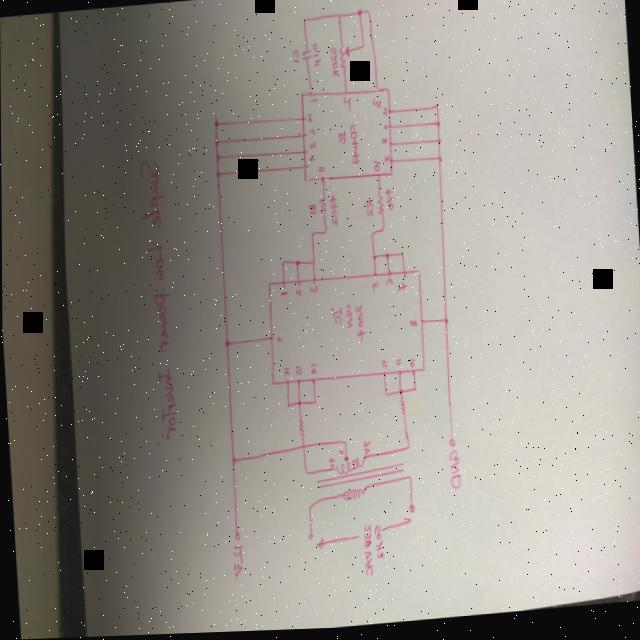capacitor: (300, 49, 312, 64)
crossover: (301, 444, 305, 450)
junction: (213, 116, 219, 128), (213, 139, 219, 147), (224, 340, 230, 348), (215, 154, 220, 163), (215, 171, 220, 179), (435, 122, 440, 130), (437, 157, 442, 165), (230, 458, 235, 466), (295, 260, 300, 267), (404, 447, 409, 454), (435, 105, 439, 113), (443, 319, 447, 327), (372, 254, 376, 262), (398, 390, 402, 398), (399, 253, 404, 259), (357, 11, 361, 18), (436, 140, 440, 147), (385, 254, 389, 261), (337, 14, 341, 20), (303, 470, 307, 476), (297, 401, 301, 407), (312, 401, 316, 407), (280, 261, 284, 267), (311, 261, 315, 267), (310, 232, 314, 238), (370, 232, 374, 238), (383, 393, 387, 399), (407, 476, 411, 482), (307, 505, 311, 511), (303, 19, 307, 24), (323, 231, 327, 236), (380, 229, 384, 234), (412, 389, 416, 394), (361, 45, 364, 51), (366, 11, 370, 15), (342, 442, 346, 446), (286, 404, 289, 409)
resistor: (339, 44, 350, 73), (318, 198, 327, 220), (296, 420, 304, 440), (376, 196, 383, 218), (398, 400, 406, 419)
terminal: (407, 504, 415, 515), (448, 439, 455, 450), (307, 531, 314, 541), (233, 532, 240, 542)
text: (136, 157, 179, 443), (361, 525, 373, 579), (353, 305, 367, 346), (348, 125, 361, 167), (448, 451, 461, 493), (372, 525, 384, 561), (328, 48, 341, 80), (231, 546, 243, 580), (328, 195, 340, 228), (331, 307, 343, 329), (384, 190, 395, 212), (344, 306, 353, 330), (312, 44, 321, 68), (364, 201, 374, 220), (342, 97, 351, 115), (337, 130, 346, 147), (362, 442, 371, 458), (371, 98, 382, 111), (396, 283, 407, 295), (307, 204, 317, 217), (291, 49, 299, 65), (372, 161, 381, 174), (293, 366, 302, 378), (308, 364, 317, 376), (380, 360, 388, 373), (327, 458, 335, 471), (408, 320, 417, 331), (309, 285, 318, 296), (371, 282, 378, 295), (407, 360, 416, 370), (281, 368, 290, 378), (294, 289, 302, 299), (385, 279, 393, 288), (275, 336, 283, 345), (278, 291, 287, 299), (309, 98, 318, 106), (308, 142, 316, 151), (394, 359, 401, 369), (306, 114, 313, 124), (317, 167, 325, 175), (308, 129, 315, 138), (382, 109, 388, 119), (383, 156, 390, 164), (381, 138, 387, 146), (308, 157, 314, 165), (382, 125, 388, 132), (338, 451, 343, 457)
transformer: (315, 448, 405, 506)
